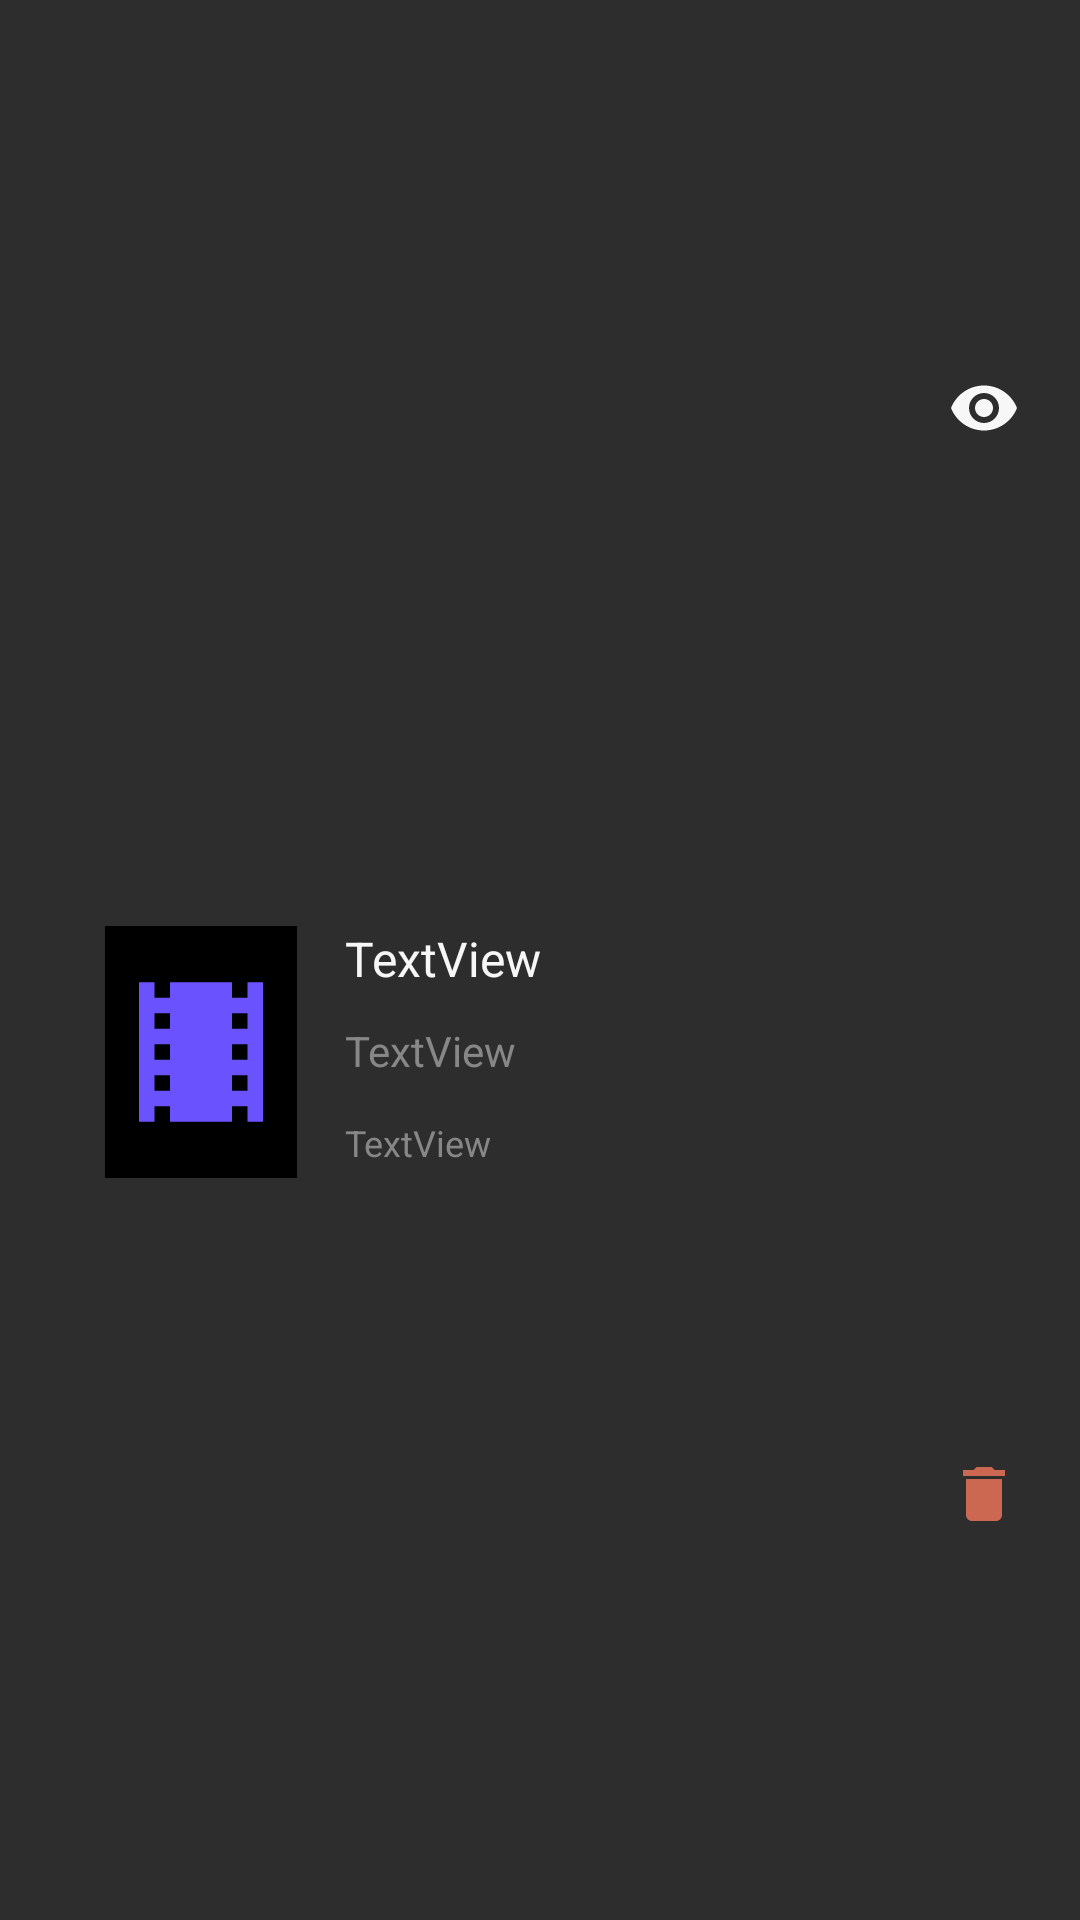

Icons on this 1080w x 1920h Android screen, each with its box as {"left": x1, "top": y1, "right": x2, "bottom": y2}:
delete: {"left": 963, "top": 1467, "right": 1005, "bottom": 1521}
local movies: {"left": 105, "top": 926, "right": 297, "bottom": 1178}
watch: {"left": 951, "top": 385, "right": 1017, "bottom": 431}
